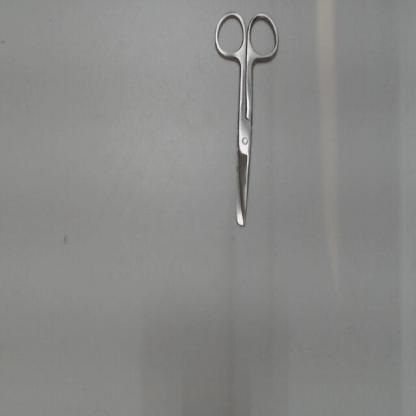Dressing Scissors: (206, 3, 285, 241)
